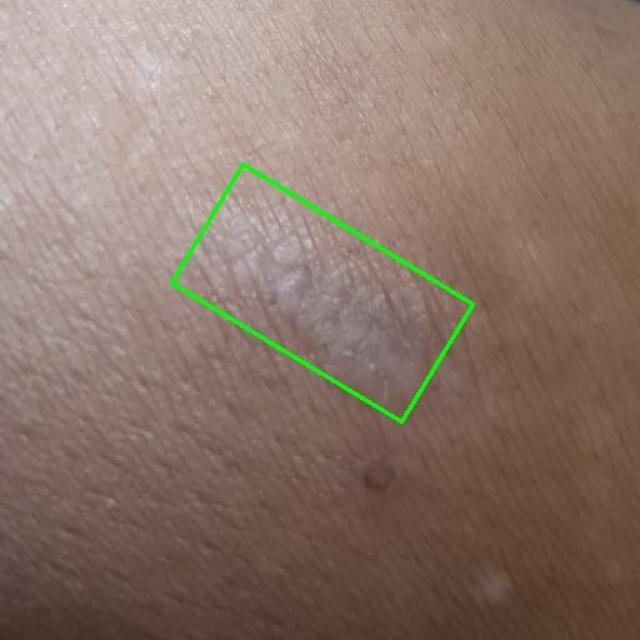Atopic Dermatitis: (171, 165, 474, 422)
